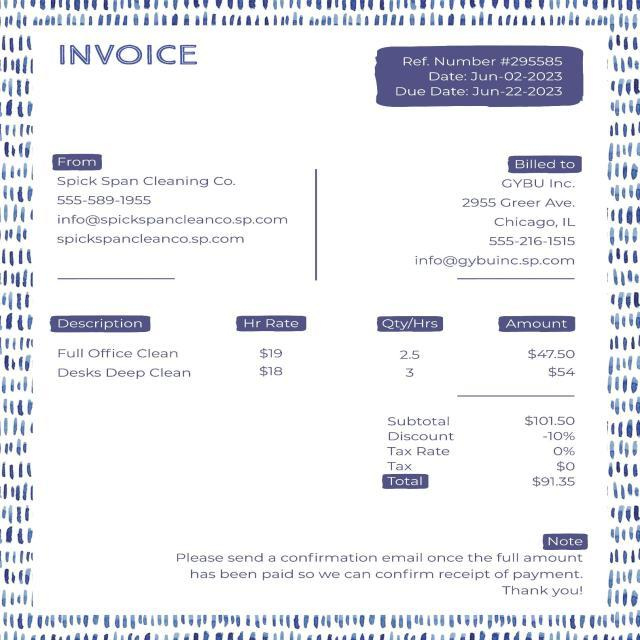ROI: (44, 304, 594, 388), (168, 528, 592, 600), (36, 144, 294, 253), (403, 150, 606, 274), (371, 410, 595, 500), (376, 46, 584, 109), (49, 40, 211, 70)
